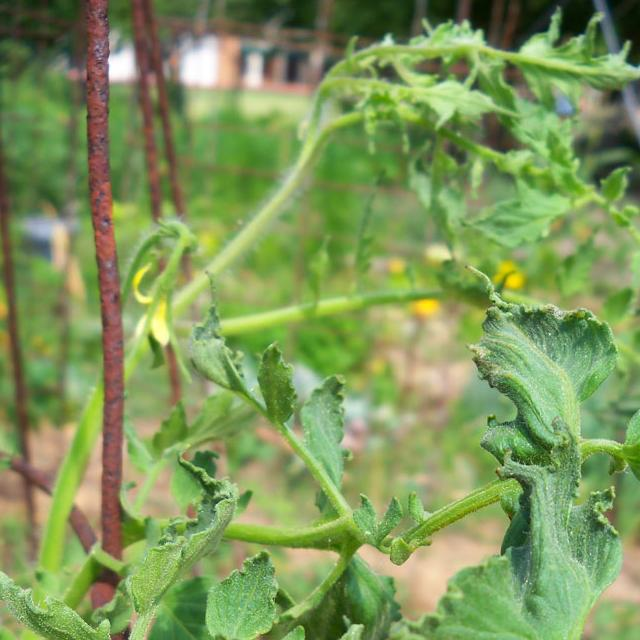Tomato leaf mosaic virus: (465, 264, 625, 640), (279, 555, 586, 640), (199, 549, 285, 640), (301, 362, 353, 495)
